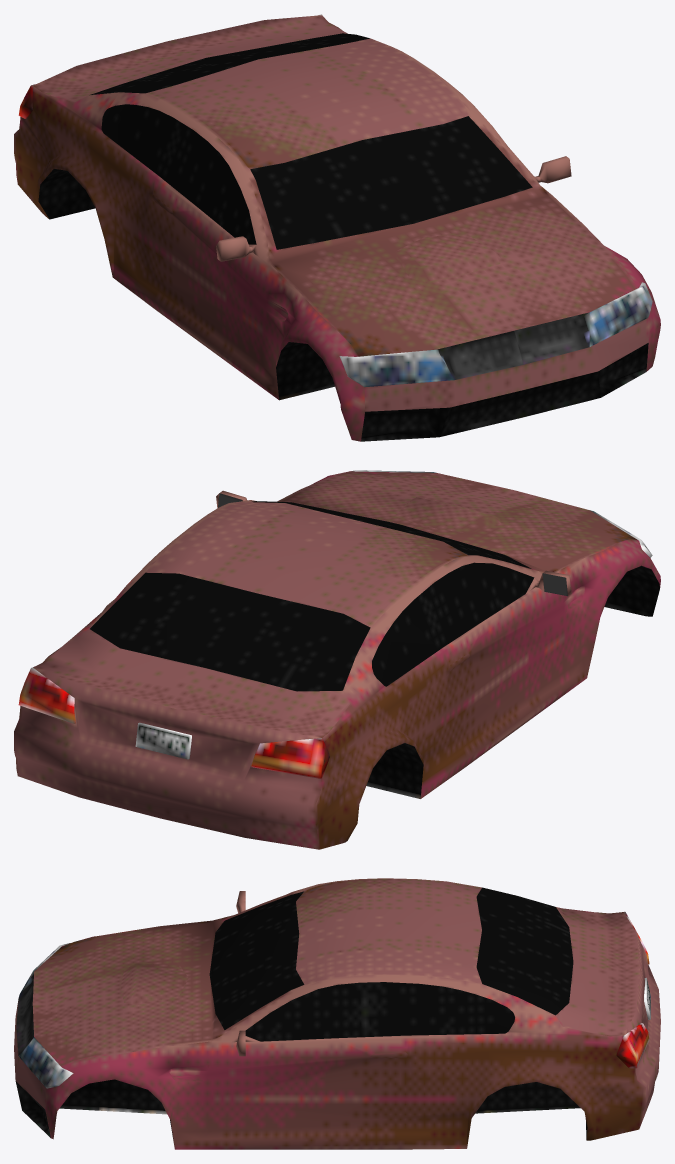
File: bmw m3.fbx
3 renders of one model, top to bottom at view 1: azimuth 30°, elevation 25°; view 2: azimuth 150°, elevation 25°; view 3: azimuth 270°, elevation 25°, orthographic. The views are drawn at different scales.
Visible parts, largest first — view 1: bmw m3; view 2: bmw m3; view 3: bmw m3.
Boxes of the visible parts, x1=… form: bmw m3: x1=14, y1=14, x2=660, y2=441; bmw m3: x1=14, y1=470, x2=660, y2=849; bmw m3: x1=14, y1=878, x2=660, y2=1149.
Size of the model in its own units: 3.22 by 1.6 by 5.8.
